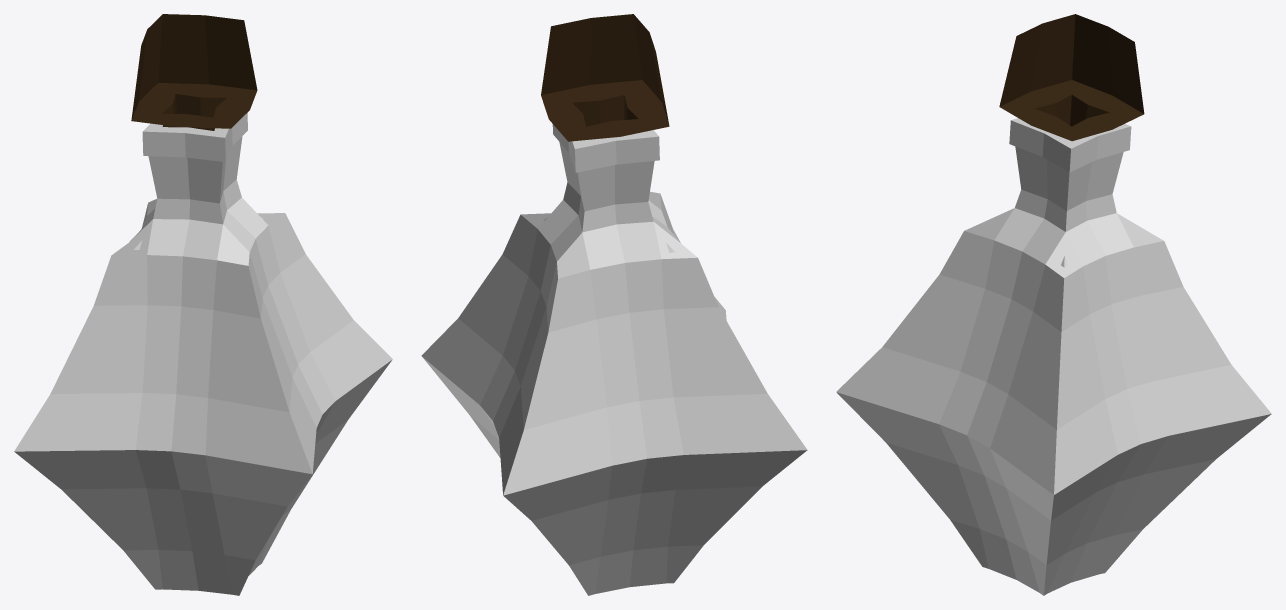
File: Bottle_Mod.fbx
3 views of the same model, side by side, from view 1: azimuth 30°, elevation 25°; view 2: azimuth 150°, elevation 25°; view 3: azimuth 270°, elevation 25° (orthographic). The views are drawn at different scales.
Parts seen in each view (by area): view 1: bottle; view 2: bottle; view 3: bottle.
Boxes of the visible parts, bbox=[...] form: bottle: bbox=[14, 14, 392, 595]; bottle: bbox=[421, 14, 807, 595]; bottle: bbox=[836, 14, 1271, 595].
Size of the model in its own units: 330 by 448 by 329.
